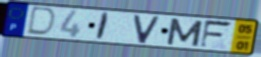4: (58, 9, 85, 40)
D: (25, 6, 58, 38)
F: (198, 19, 234, 50)
I: (94, 12, 112, 42)
M: (165, 17, 205, 48)
V: (132, 14, 163, 45)
